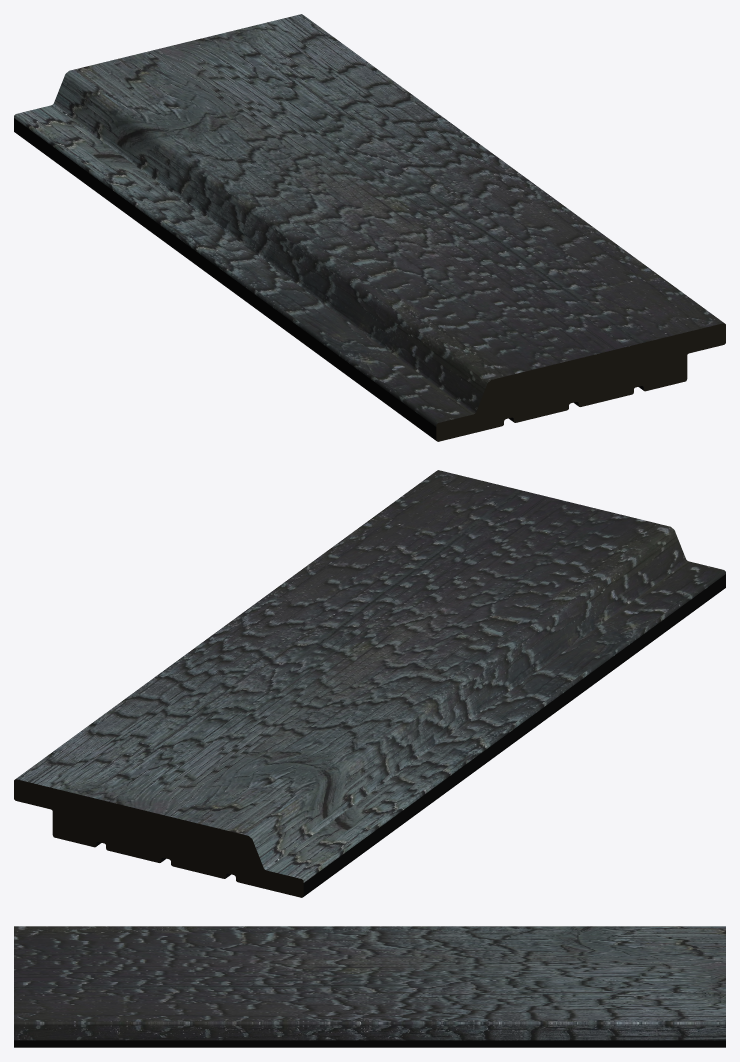
The model's file is thermo-facade-half-tongue-carbon.glb.
The picture shows the model from 3 angles, top to bottom: view 1: azimuth 30°, elevation 25°; view 2: azimuth 150°, elevation 25°; view 3: azimuth 270°, elevation 25°; orthographic projection. The views are drawn at different scales.
Parts seen in each view (by area): view 1: Pusė_Špunto; view 2: Pusė_Špunto; view 3: Pusė_Špunto.
Boxes of the visible parts, x1,y1,x2,y2 form: Pusė_Špunto: [14, 14, 725, 441]; Pusė_Špunto: [14, 470, 725, 897]; Pusė_Špunto: [14, 926, 725, 1047].
Bounding box in the file's own units: 0.0723 × 0.0117 × 0.1826.
Materials: 3 (1 with a texture image).
